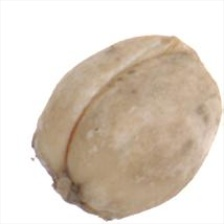L1: (163, 34, 220, 98), (45, 169, 90, 210)
L2: (30, 35, 222, 221)
